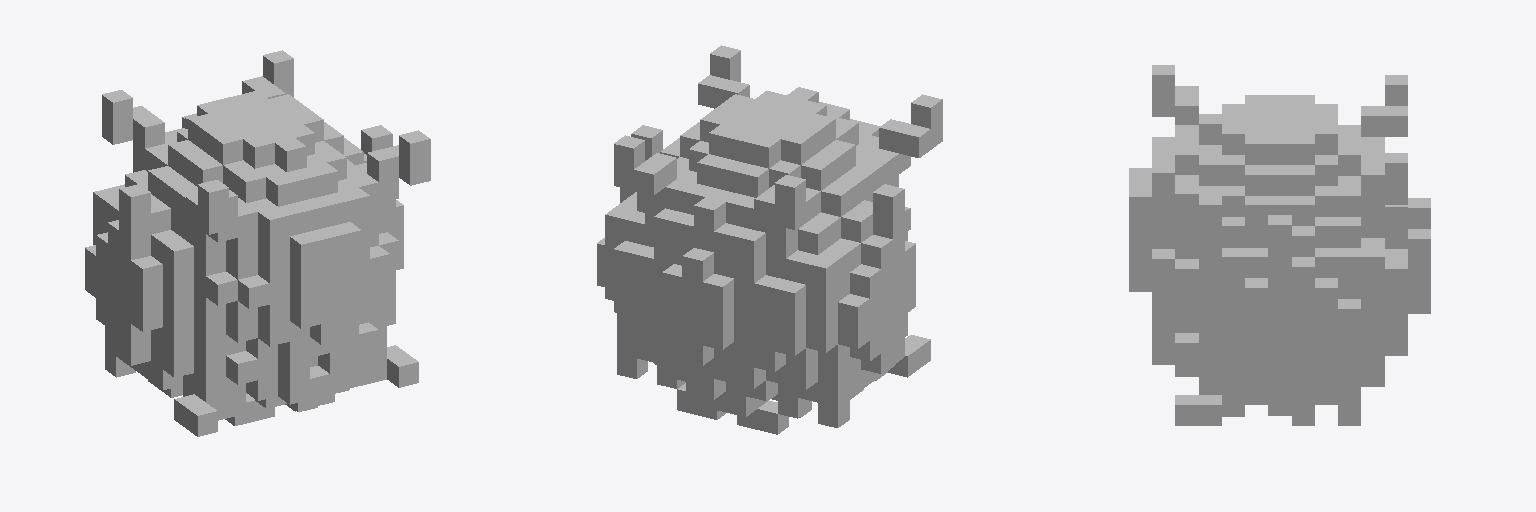
The model's file is 8-Bit CacoBrown-00.obj.
3 views of the same model, side by side, from view 1: azimuth 30°, elevation 25°; view 2: azimuth 150°, elevation 25°; view 3: azimuth 270°, elevation 25° (orthographic).
Bounding box in the file's own units: 13 × 13 × 13.